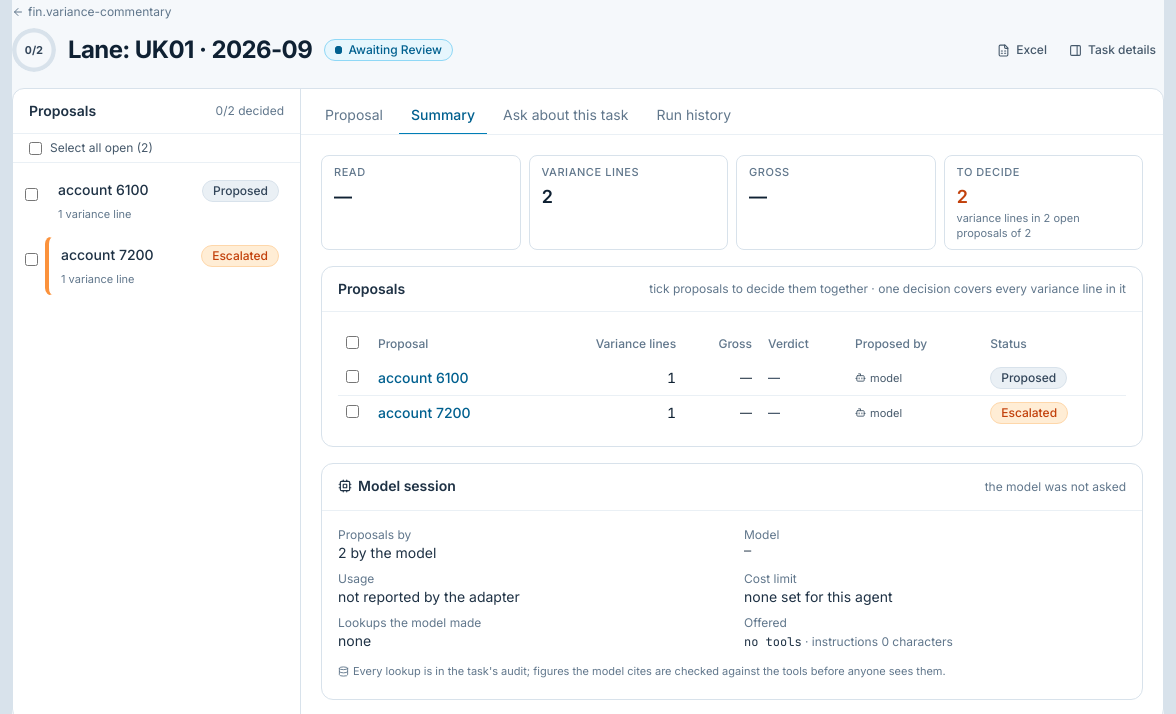
it: TaskWorkspace › rejects every proposal ticked on the Summary, the one-by-one ones included
Later steps or results of the test are not shown.
Step 1. Click the checkbox named "Select every open proposal" → (352, 342), box [346,336,359,349]
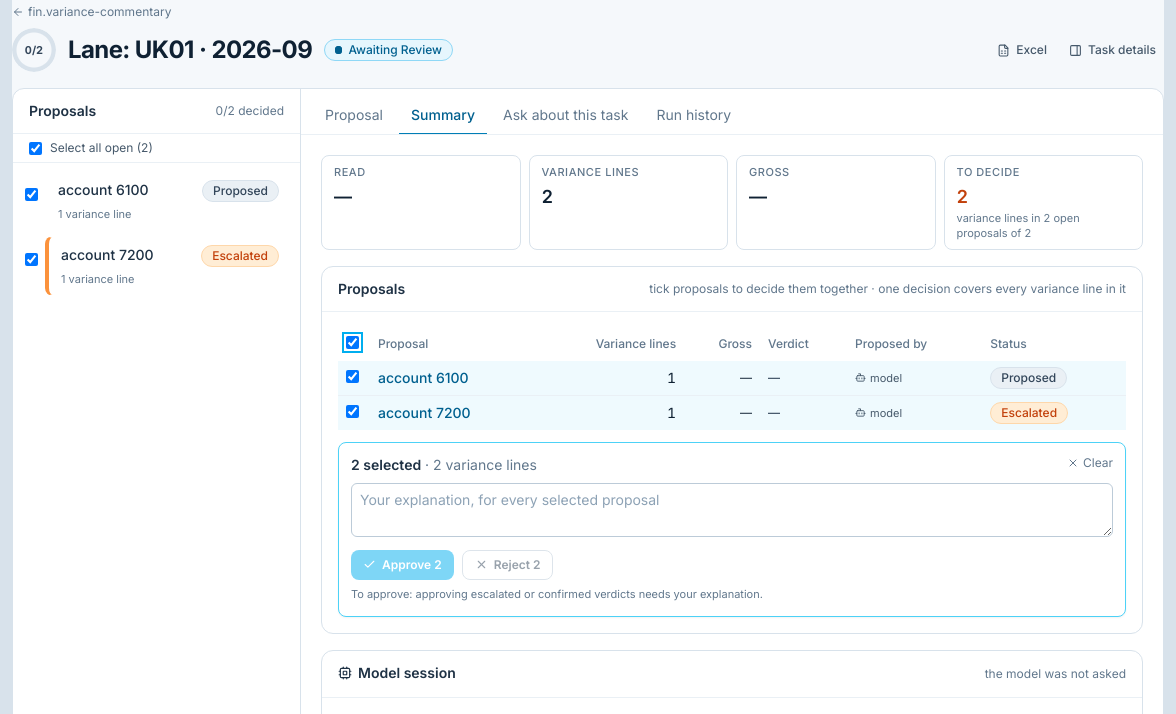
Result: the button "Reject 2" is disabled at [462,550,554,580]
